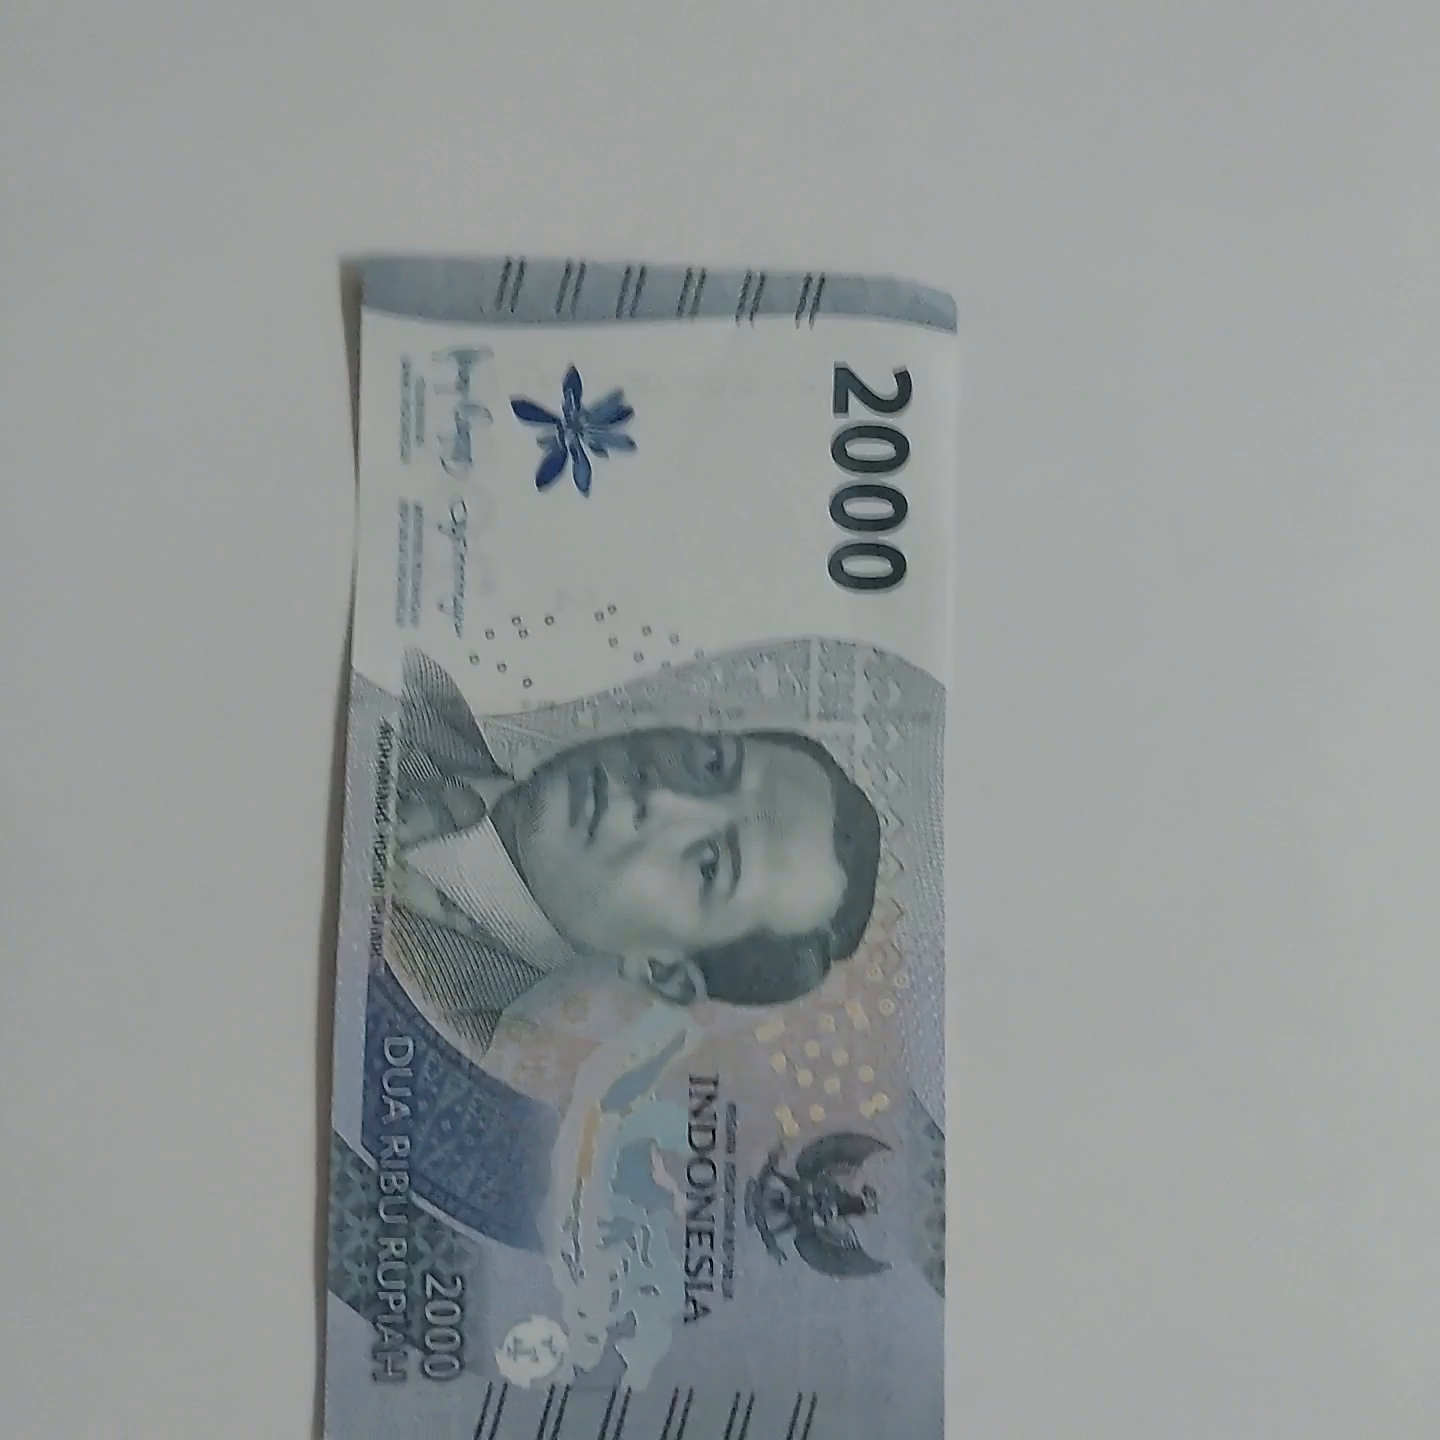2k: (335, 239, 967, 1440)
